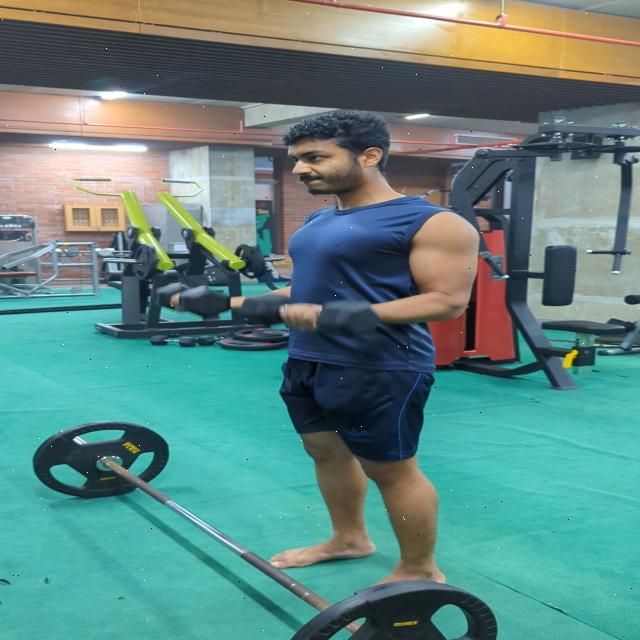Normal_DumbbellBicepCurls: (166, 106, 480, 585)
